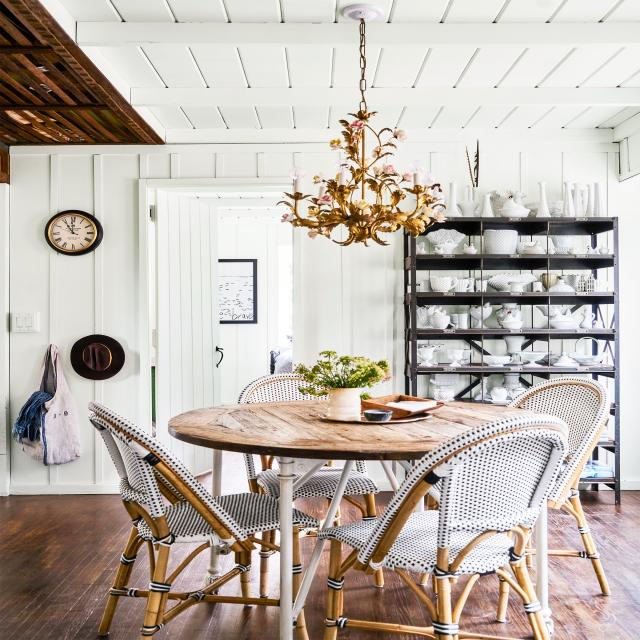obstacle: (64, 390, 285, 640), (359, 413, 579, 640)
